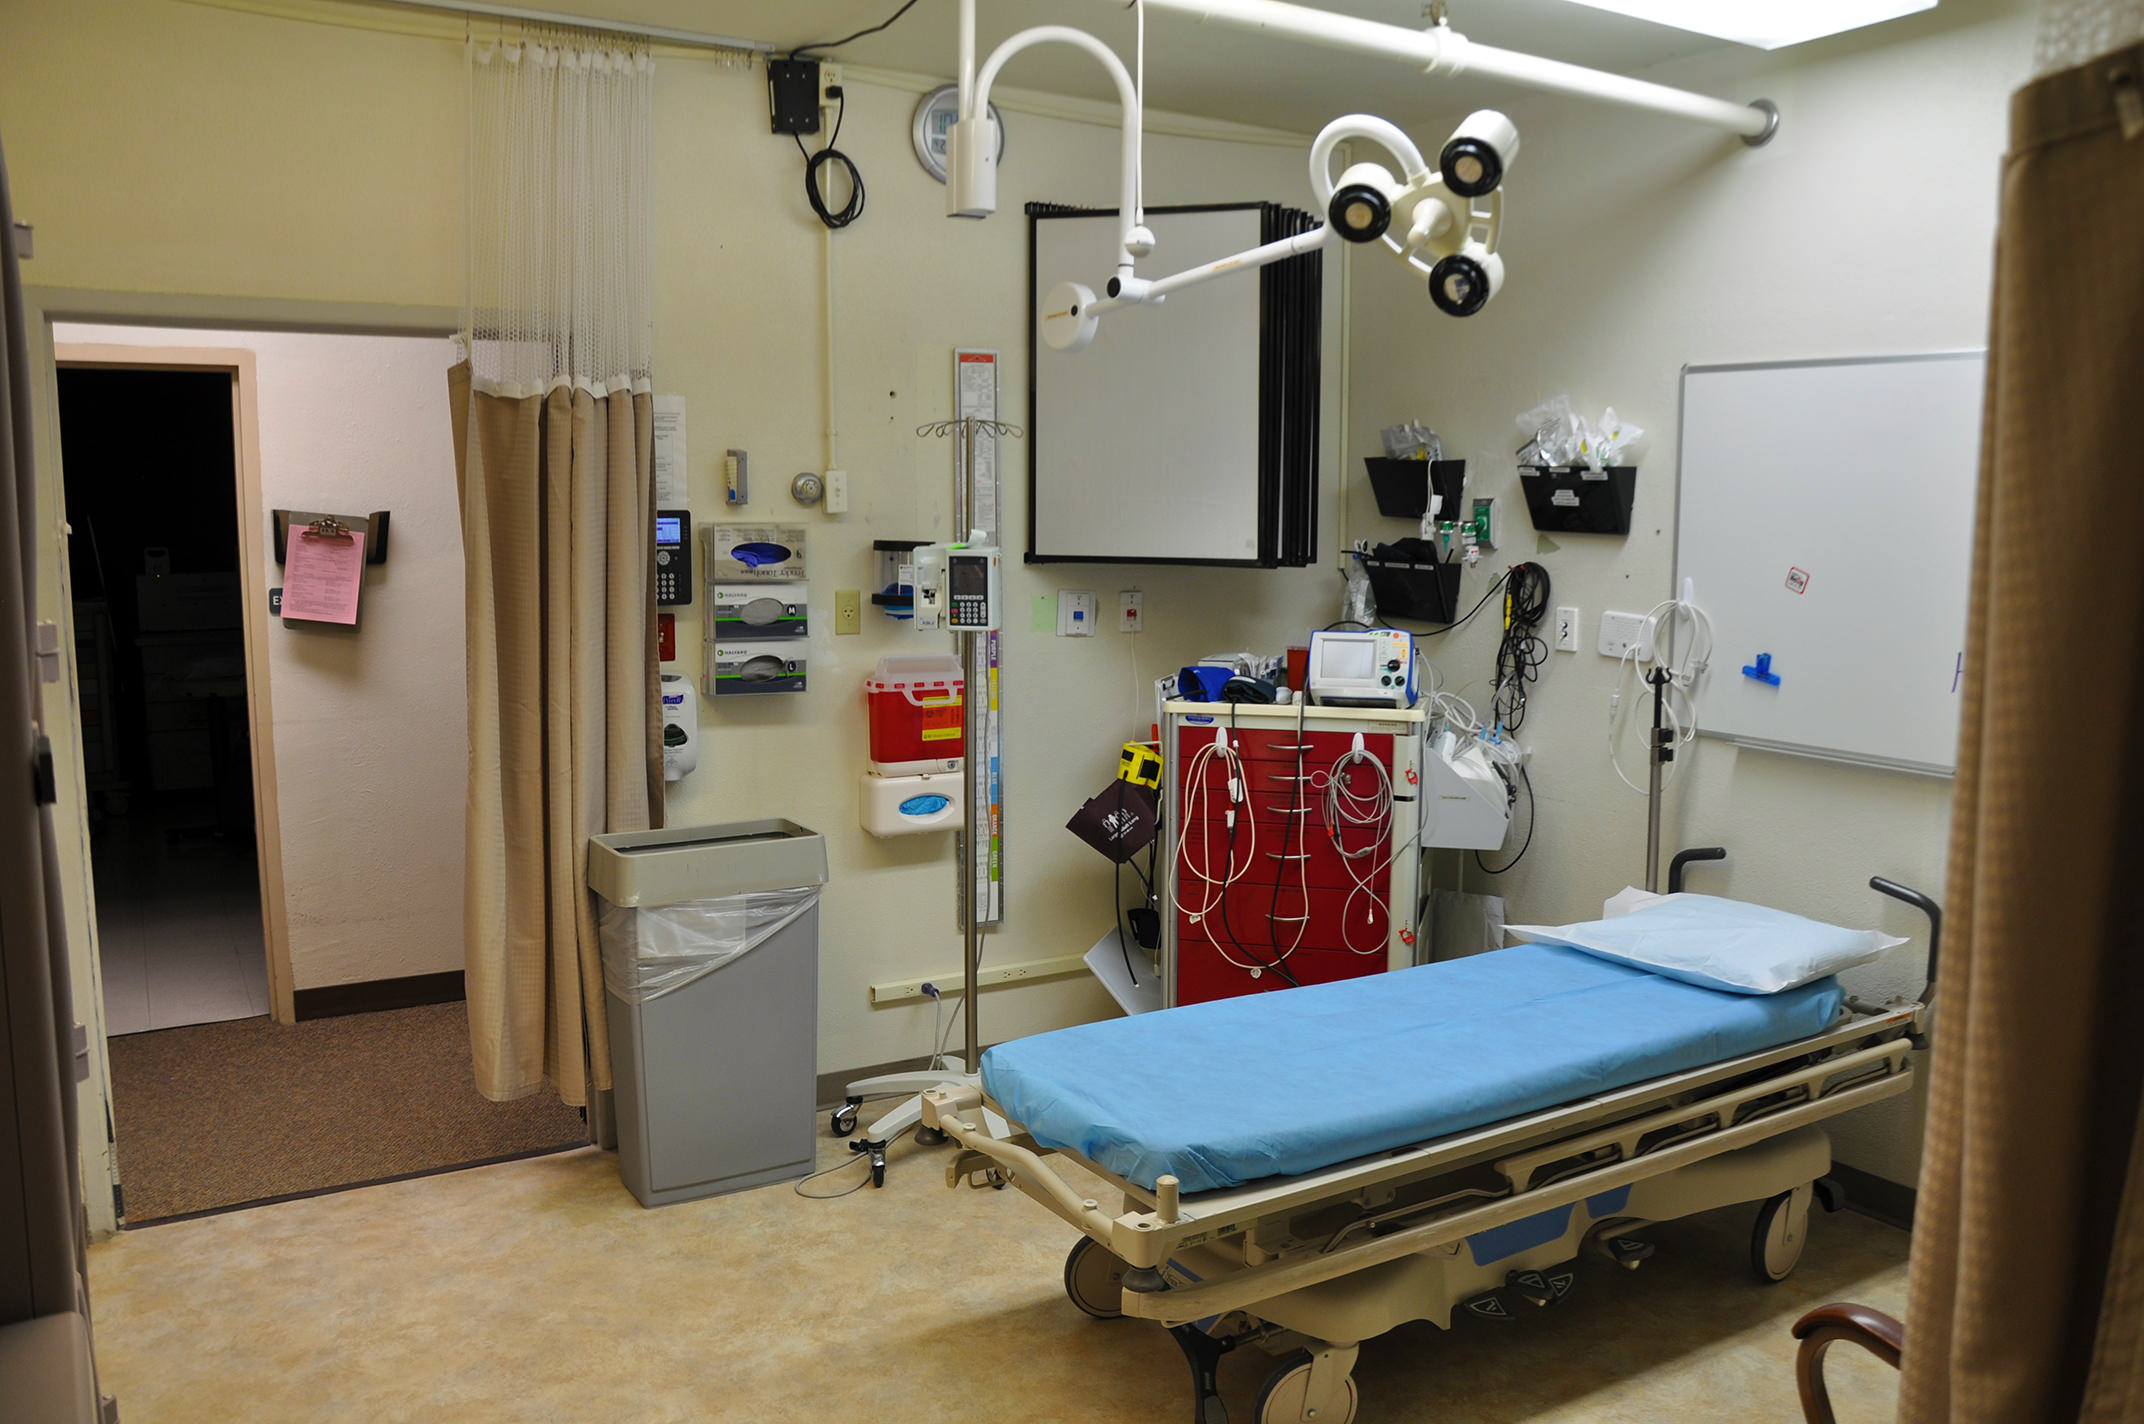bedrail: (1492, 1031, 1918, 1198)
chair: (1799, 1302, 1902, 1424)
curtain: (1909, 2, 2144, 1424), (443, 25, 672, 1109), (2, 153, 84, 1325)
dispenser: (702, 512, 811, 698), (868, 749, 977, 833), (642, 652, 710, 769)
handle: (1268, 737, 1310, 756), (1268, 803, 1313, 817), (1267, 912, 1311, 922), (1267, 850, 1308, 860), (1271, 774, 1313, 782)
infusion_pump: (942, 547, 997, 629)
iv_pole: (917, 413, 1027, 1073)
medical_drawer: (1157, 701, 1434, 1011)
medical_waste_container: (866, 648, 974, 764)
operating_bed: (919, 842, 1942, 1424)
sequential_compression: (1310, 628, 1413, 701)
surgical_light: (1329, 113, 1523, 319)
waste_bin: (588, 814, 830, 1206)
